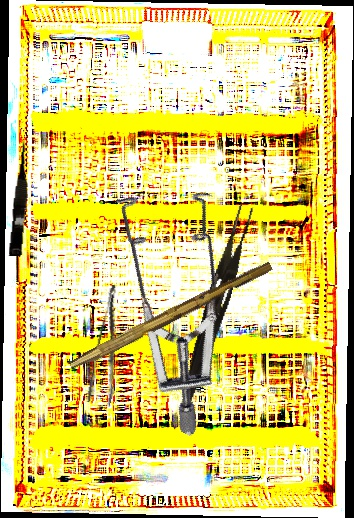Dressing Forceps: (178, 201, 255, 410), (84, 284, 136, 407)
Micro Scissor: (8, 139, 35, 257)
Scalpel Handle: (68, 256, 274, 377)
Speculum: (36, 157, 294, 438)
